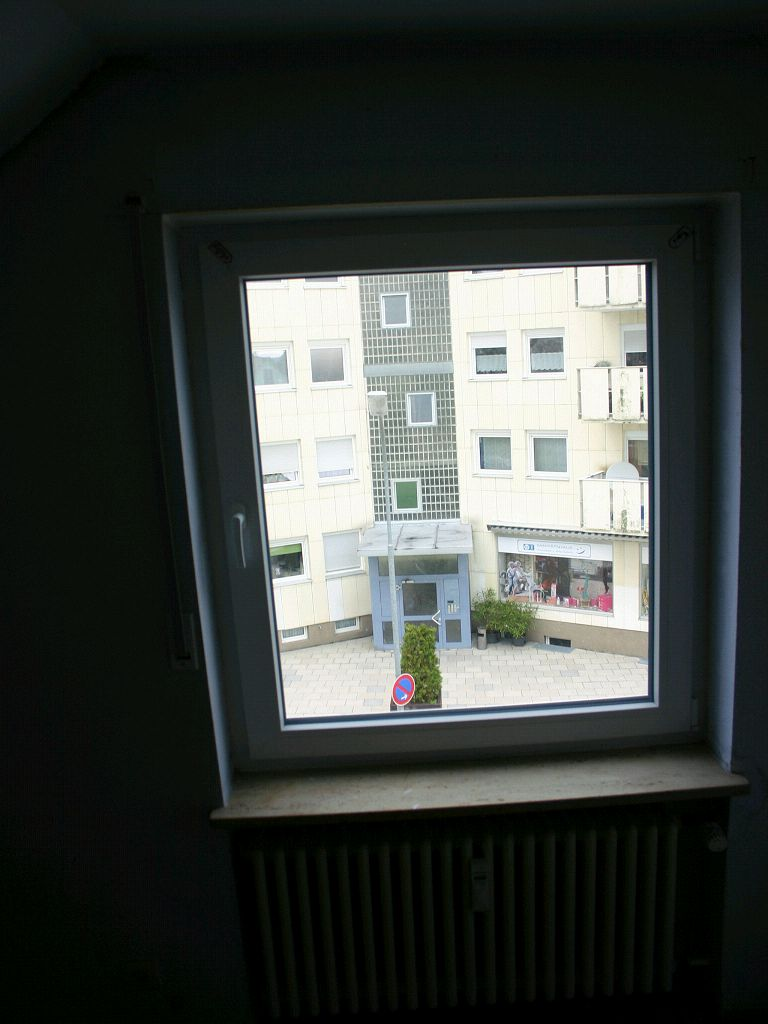windows: (157, 195, 726, 790)
